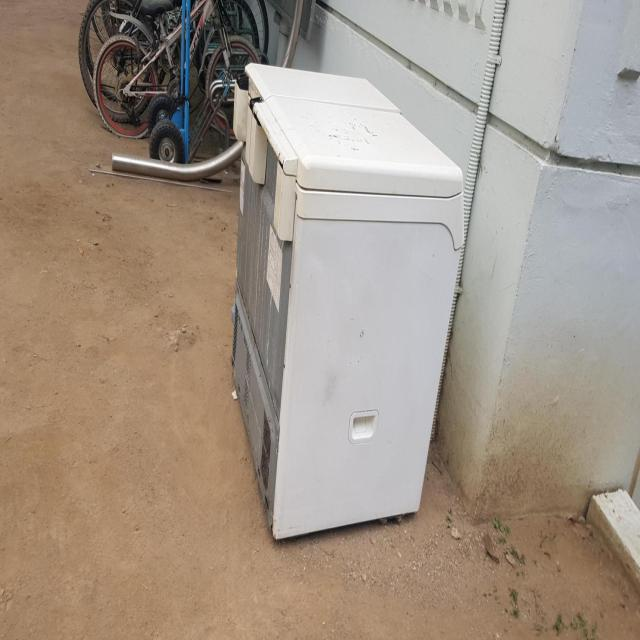refrigerator: (228, 60, 466, 543)
